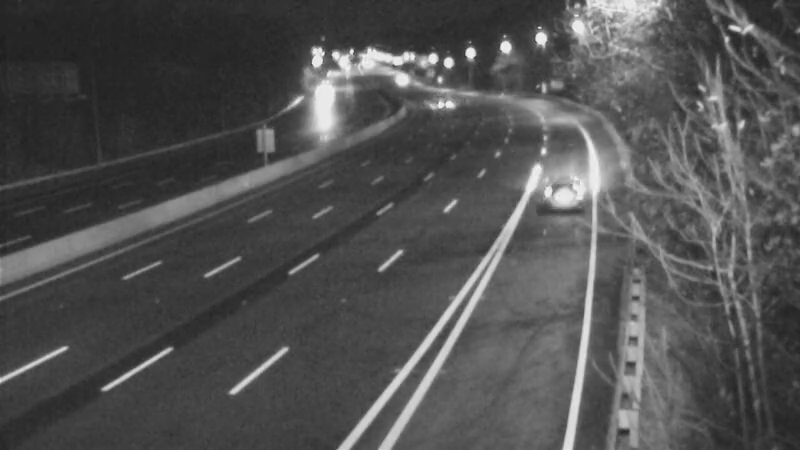vehicle: (524, 155, 604, 235), (371, 53, 421, 103), (403, 74, 453, 124), (295, 78, 345, 128)
